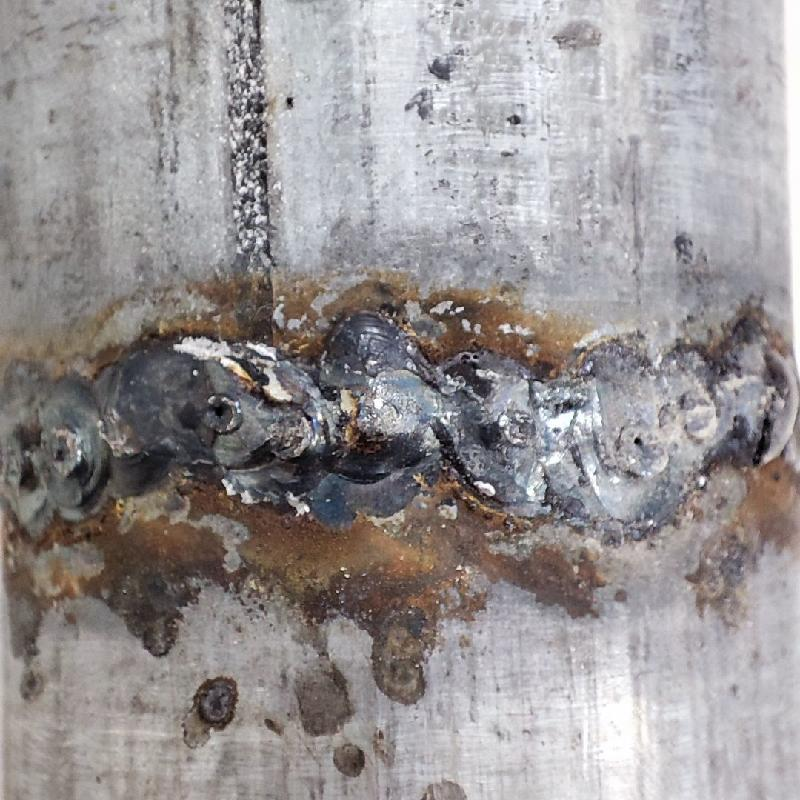Not_fully_soldered: (550, 338, 760, 518)
Surface_pores: (615, 426, 668, 470), (44, 430, 82, 480), (200, 390, 239, 436)
wrong_size: (1, 341, 544, 524)
